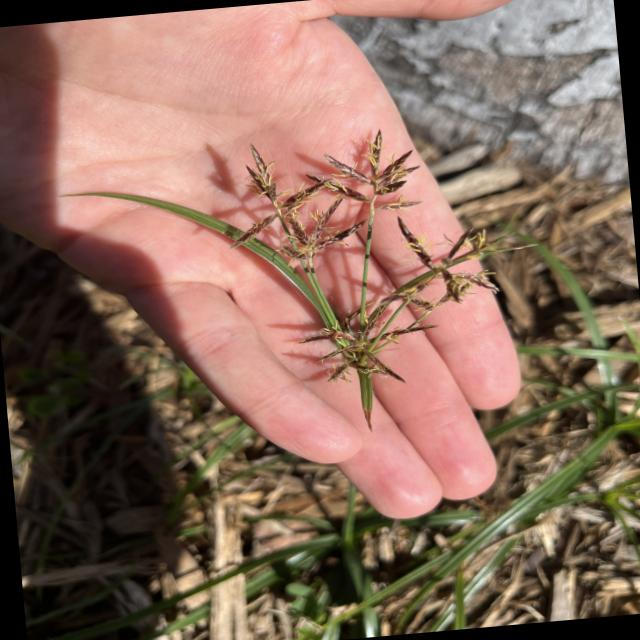cyperus: (199, 109, 554, 426)
